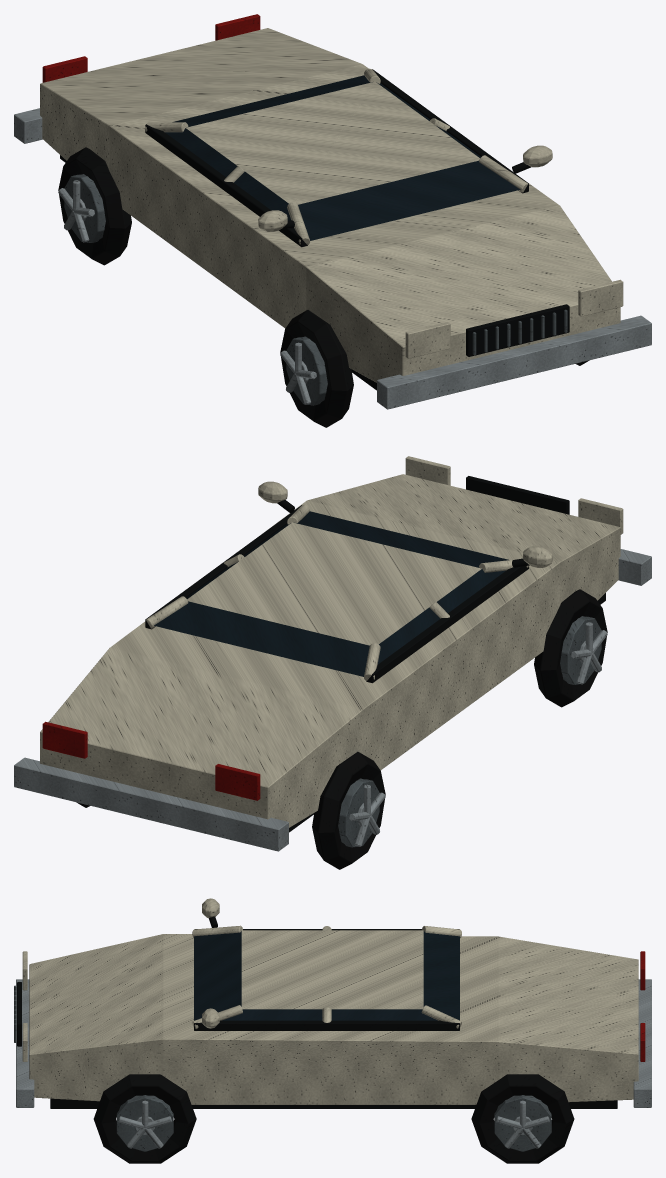
The model's file is PROP-04660392D4EA_lod1.glb.
The picture shows the model from 3 angles, top to bottom: view 1: azimuth 30°, elevation 25°; view 2: azimuth 150°, elevation 25°; view 3: azimuth 270°, elevation 25°; orthographic projection. The views are drawn at different scales.
Parts seen in each view (by area): view 1: shaped_body_panels.015, roof_panel.013, sloped_cabin_glazing.015, bumper.015, tire.015, window_belt.015, rim.015, lamp_lenses.030, radiator_grille.015, window_pillars.015, rim_spokes.015, lamp_lenses.031 (+2 smaller); view 2: shaped_body_panels.015, roof_panel.013, sloped_cabin_glazing.015, bumper.015, tire.015, window_belt.015, rim.015, lamp_lenses.031, lamp_lenses.030, rim_spokes.015, window_pillars.015, radiator_grille.015 (+1 smaller); view 3: shaped_body_panels.015, roof_panel.013, tire.015, sloped_cabin_glazing.015, rim.015, bumper.015, window_belt.015, chassis.015, rim_spokes.015, window_pillars.015, mirror.015, lamp_lenses.030 (+1 smaller).
Boxes of the visible parts, x1,y1,x2,y2 form: shaped_body_panels.015: (40, 28, 620, 382); roof_panel.013: (186, 81, 479, 204); sloped_cabin_glazing.015: (165, 75, 520, 240); bumper.015: (14, 108, 651, 409); tire.015: (58, 147, 589, 427); window_belt.015: (145, 69, 528, 247); rim.015: (64, 174, 327, 405); lamp_lenses.030: (405, 279, 623, 358); radiator_grille.015: (466, 304, 569, 356); window_pillars.015: (145, 68, 527, 244); rim_spokes.015: (58, 180, 316, 404); lamp_lenses.031: (42, 14, 260, 82); shaped_body_panels.015: (40, 474, 620, 827); roof_panel.013: (187, 522, 481, 645); sloped_cabin_glazing.015: (154, 511, 508, 676); bumper.015: (14, 549, 651, 851); tire.015: (76, 589, 607, 869); window_belt.015: (145, 505, 528, 683); rim.015: (338, 616, 601, 847); lamp_lenses.031: (42, 721, 260, 800); lamp_lenses.030: (405, 456, 623, 534); rim_spokes.015: (349, 622, 607, 846); window_pillars.015: (146, 504, 528, 681); radiator_grille.015: (466, 476, 569, 514); shaped_body_panels.015: (29, 934, 638, 1104); roof_panel.013: (241, 930, 423, 1009); tire.015: (93, 1074, 574, 1163); sloped_cabin_glazing.015: (194, 931, 459, 1020); rim.015: (116, 1095, 551, 1151); bumper.015: (16, 979, 651, 1107); window_belt.015: (194, 929, 459, 1030); chassis.015: (50, 1098, 617, 1108); rim_spokes.015: (118, 1100, 549, 1148); window_pillars.015: (192, 925, 461, 1028); mirror.015: (202, 898, 219, 1028); lamp_lenses.030: (22, 951, 27, 1061).
Size of the model in its own units: 2.09 by 1.22 by 4.56.
7 materials, 7 textured.
